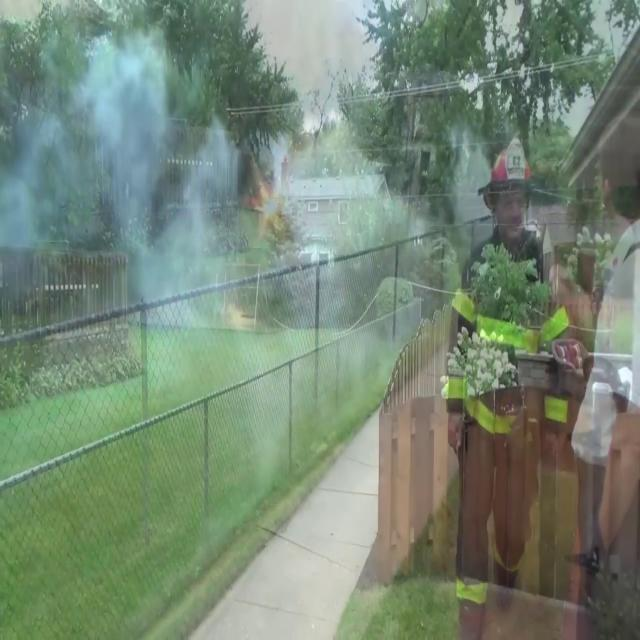Smoke: (70, 30, 244, 342), (0, 90, 77, 286)
